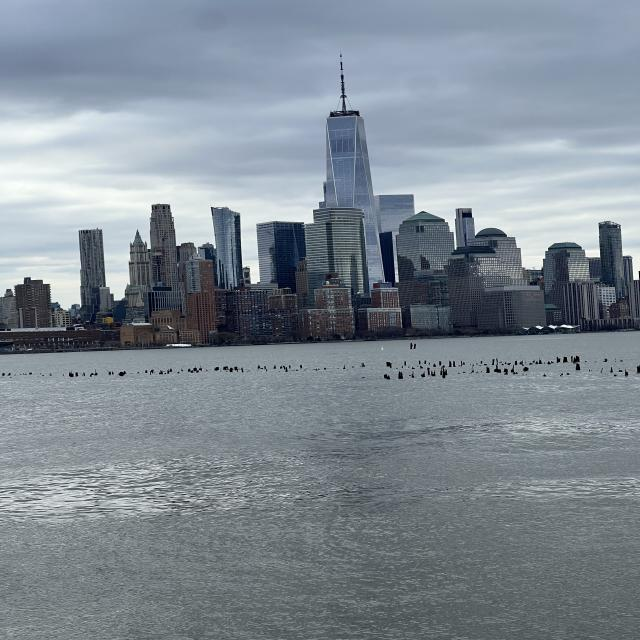WTC: (325, 50, 373, 210)
